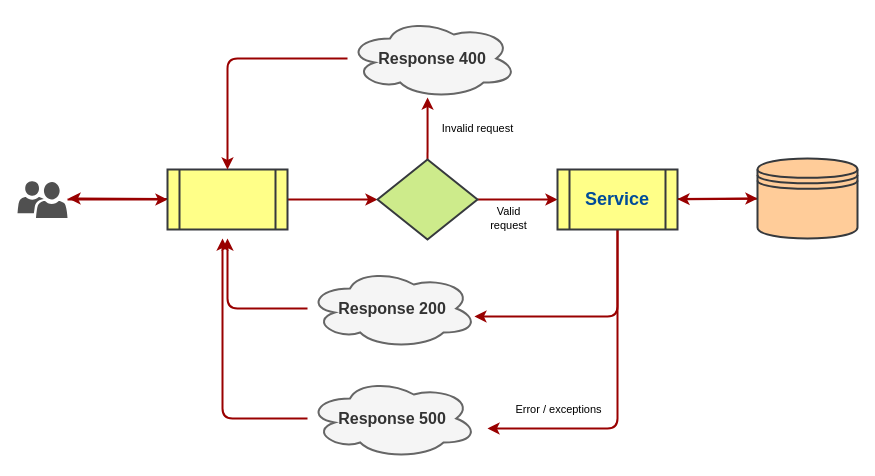
The diagram is 875 pixels wide and 476 high, and some of its shapes have lost their labels. Here are the shapes that lost their labels. From the top down, the centre of each, then its label:
point (227, 199): Controller
point (427, 199): Validator
